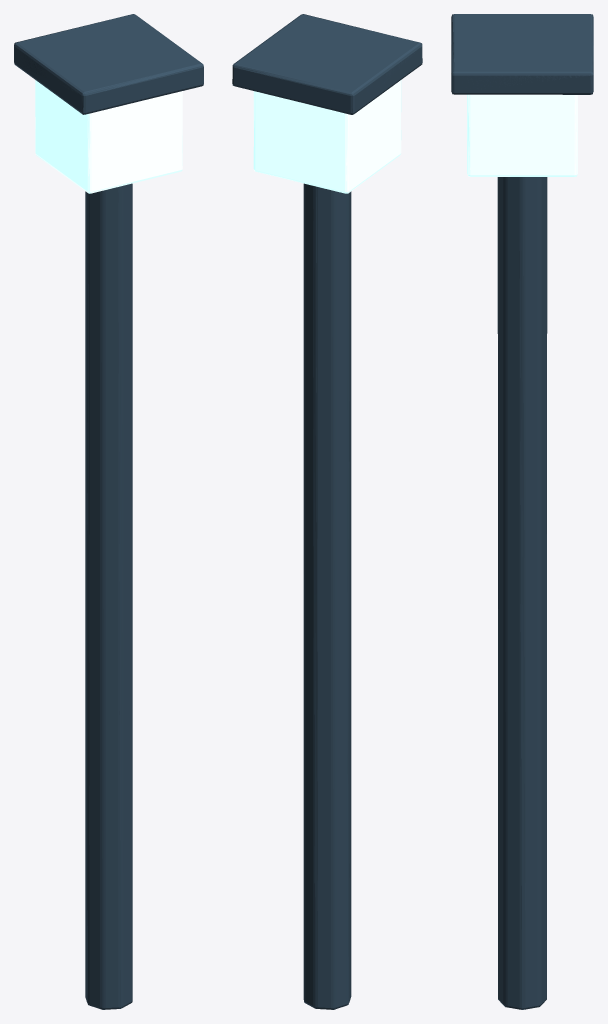
The model's file is SM_Rheinufer_Lamp.fbx.
3 renders of one model, left to right at view 1: azimuth 30°, elevation 25°; view 2: azimuth 150°, elevation 25°; view 3: azimuth 270°, elevation 25°, orthographic.
Parts seen in each view (by area): view 1: LOD0_SM_Rheinufer_Lamp, LOD1_SM_Rheinufer_Lamp, LOD2_SM_Rheinufer_Lamp; view 2: LOD0_SM_Rheinufer_Lamp, LOD1_SM_Rheinufer_Lamp, LOD2_SM_Rheinufer_Lamp; view 3: LOD0_SM_Rheinufer_Lamp, LOD1_SM_Rheinufer_Lamp, LOD2_SM_Rheinufer_Lamp.
Boxes of the visible parts, x1,y1,x2,y2 form: LOD0_SM_Rheinufer_Lamp: (14,14,203,1009); LOD1_SM_Rheinufer_Lamp: (14,14,203,1009); LOD2_SM_Rheinufer_Lamp: (14,25,203,1008); LOD0_SM_Rheinufer_Lamp: (232,14,422,1009); LOD1_SM_Rheinufer_Lamp: (232,22,422,1009); LOD2_SM_Rheinufer_Lamp: (233,14,422,1009); LOD0_SM_Rheinufer_Lamp: (451,14,593,1009); LOD1_SM_Rheinufer_Lamp: (451,14,593,1009); LOD2_SM_Rheinufer_Lamp: (452,14,592,1009).
Bounding box in the file's own units: 0.45 × 3.34 × 0.45.
